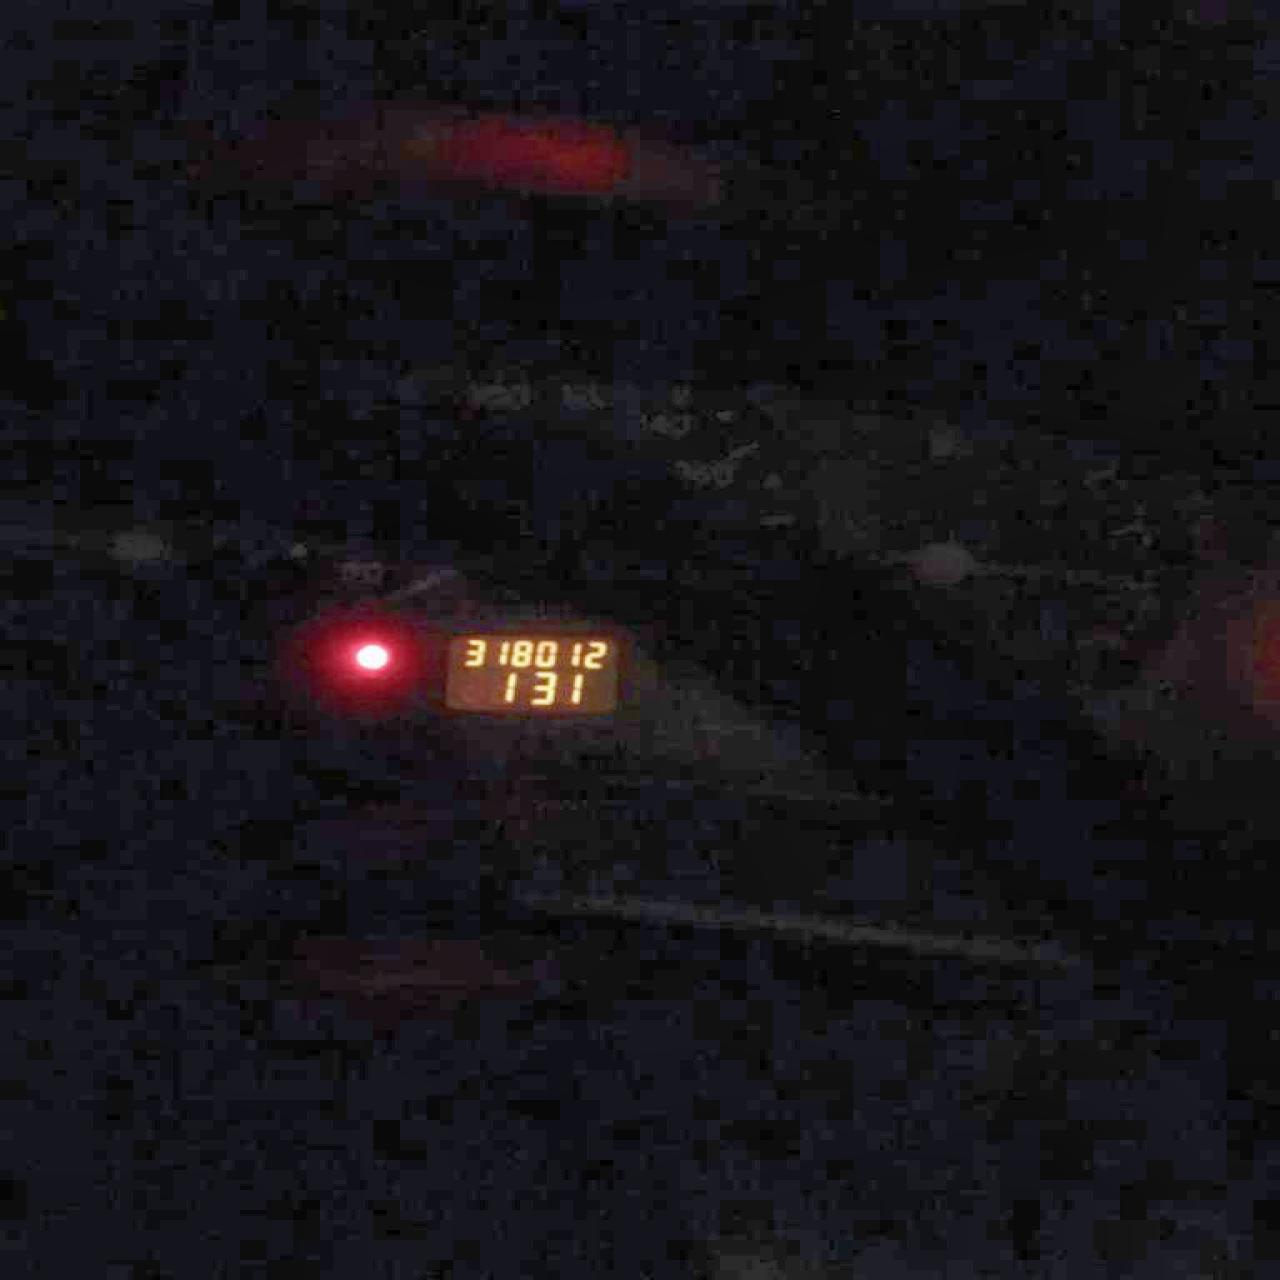0: (535, 639, 558, 667)
1: (568, 672, 585, 703), (503, 669, 517, 702), (495, 639, 509, 663), (568, 641, 581, 667)
2: (584, 639, 607, 669)
3: (532, 670, 556, 704), (465, 638, 485, 667)
8: (510, 636, 530, 666)
odometer: (443, 633, 619, 713)
